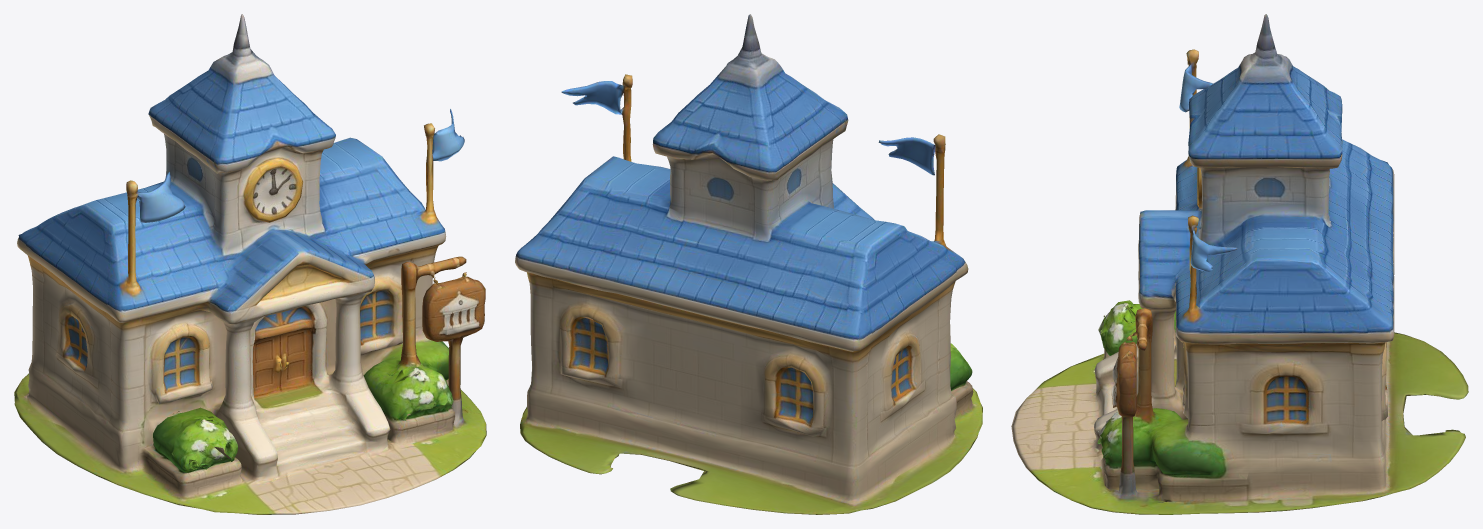
The model's file is 01-town-hall.glb.
3 renders of one model, left to right at view 1: azimuth 30°, elevation 25°; view 2: azimuth 150°, elevation 25°; view 3: azimuth 270°, elevation 25°, orthographic. The views are drawn at different scales.
Parts seen in each view (by area): view 1: tripo_node_19e0d360-c02e-4960-8dd1-83551c70d348; view 2: tripo_node_19e0d360-c02e-4960-8dd1-83551c70d348; view 3: tripo_node_19e0d360-c02e-4960-8dd1-83551c70d348.
Part boxes in pixels (box(x1,y1,x2,y2)): tripo_node_19e0d360-c02e-4960-8dd1-83551c70d348: box(14, 14, 486, 514); tripo_node_19e0d360-c02e-4960-8dd1-83551c70d348: box(515, 14, 982, 514); tripo_node_19e0d360-c02e-4960-8dd1-83551c70d348: box(1011, 14, 1468, 514).
Size of the model in its own units: 0.9632 by 0.9632 by 0.9604.
Materials: 1 (1 with a texture image).
